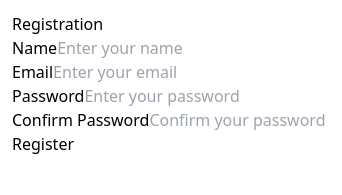
Test: React Forms › RegistrationForm › validates password length
Type "short" into the password field labelled "Password".
click(200, 96); type("short")  # box [84, 84, 315, 108]
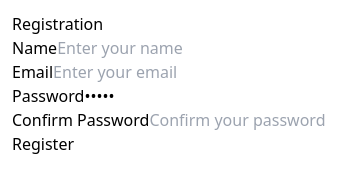
Leave the password field labelled "Password", box [84, 84, 315, 108]
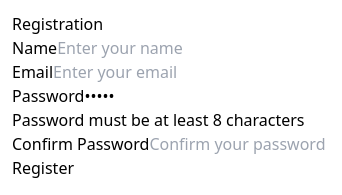
Check: the text "Password must be at least 8 characters" is shown, box [12, 109, 304, 131]
